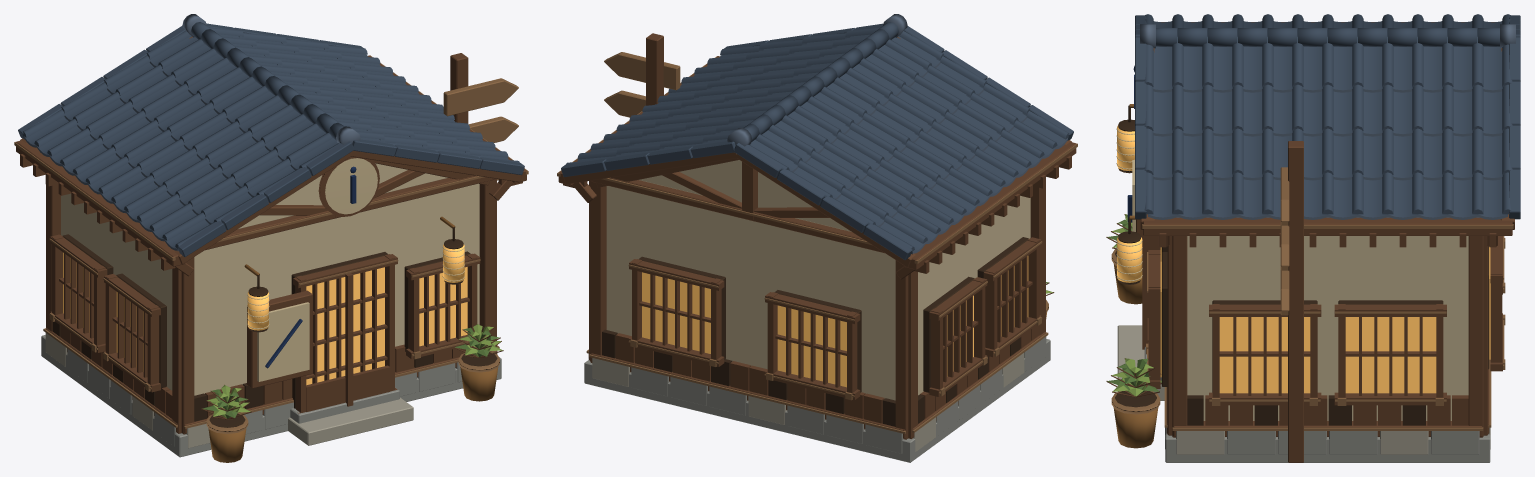
3 views of the same model, side by side, from view 1: azimuth 30°, elevation 25°; view 2: azimuth 150°, elevation 25°; view 3: azimuth 270°, elevation 25° (orthographic). The views are drawn at different scales.
Parts seen in each view (by area): view 1: compact_junction_hub_geometry, compact_junction_hub_geometry ceramic; view 2: compact_junction_hub_geometry, compact_junction_hub_geometry ceramic; view 3: compact_junction_hub_geometry, compact_junction_hub_geometry ceramic.
Part boxes in pixels (box(x1,y1,x2,y2)): compact_junction_hub_geometry: box(14, 36, 528, 462); compact_junction_hub_geometry ceramic: box(18, 14, 524, 256); compact_junction_hub_geometry: box(557, 33, 1077, 462); compact_junction_hub_geometry ceramic: box(561, 14, 1073, 259); compact_junction_hub_geometry: box(1106, 22, 1514, 462); compact_junction_hub_geometry ceramic: box(1135, 14, 1520, 219).
Bounding box in the file's own units: 1.04 × 0.7202 × 0.7822.
